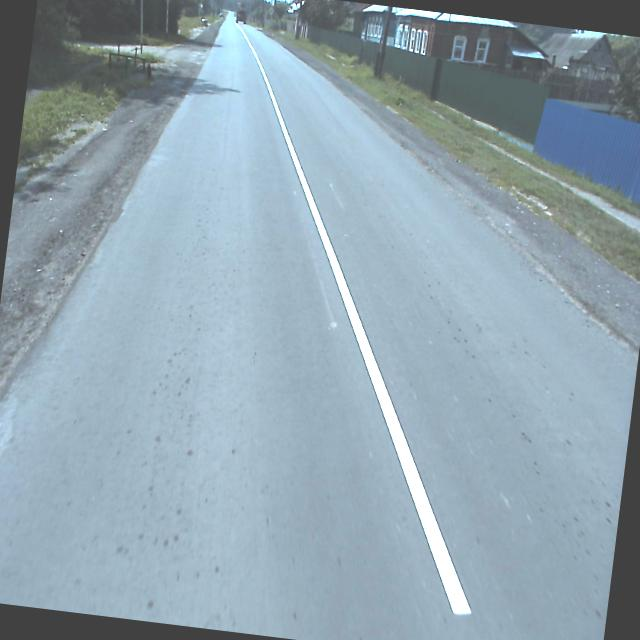road: (0, 10, 637, 640)
